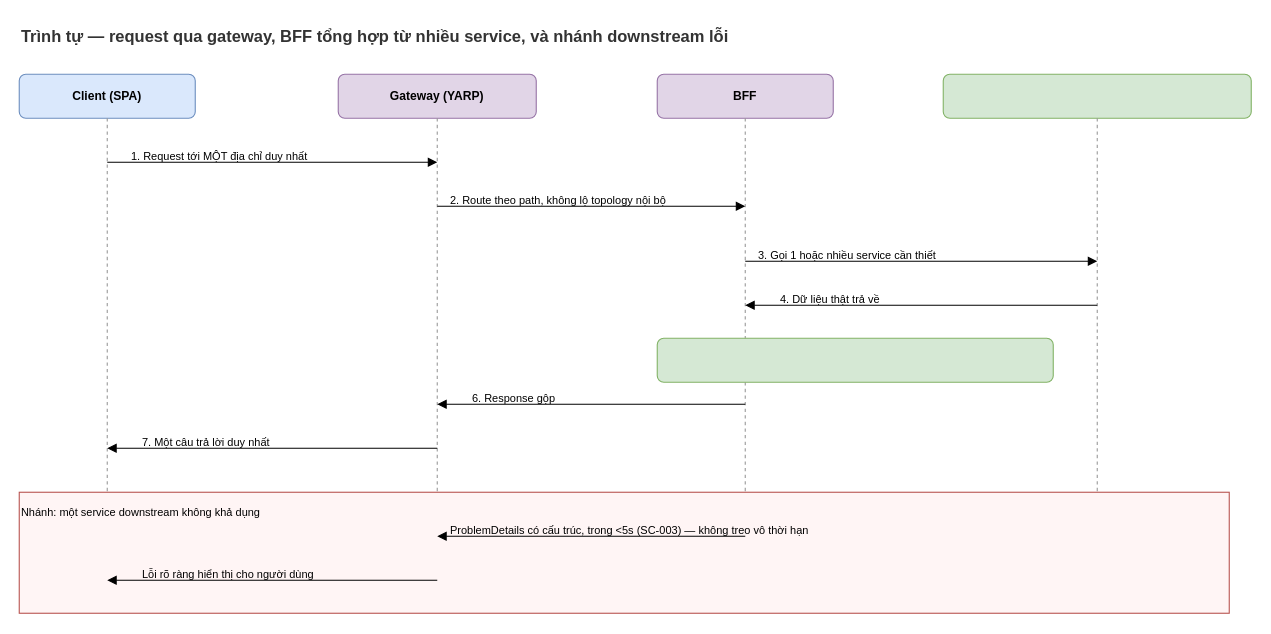
Some shapes in this 1271 by 634 pixel diagram are drawn without their labels. The centre of each missing label's shape, as x and y in pixels:
5. BFF tổng hợp + định hình response — KHÔNG business logic: point 854,359
Products/Baskets/Orders/Parties: point 1096,95
